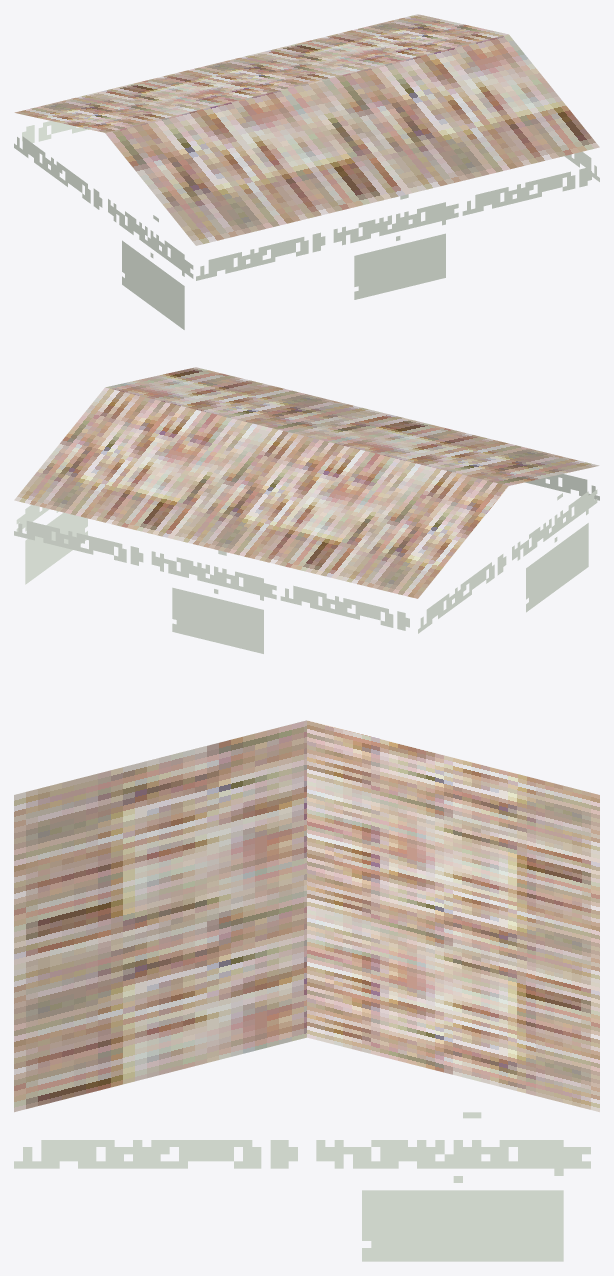
The model's file is uvmd-0060.glb.
3 views of the same model, one above another, from view 1: azimuth 30°, elevation 25°; view 2: azimuth 150°, elevation 25°; view 3: azimuth 270°, elevation 25° (orthographic). The views are drawn at different scales.
Visible parts, largest first — view 1: uvmd-0060; view 2: uvmd-0060; view 3: uvmd-0060.
Boxes of the visible parts, x1,y1,x2,y2 form: uvmd-0060: (14,14,599,329); uvmd-0060: (14,367,599,653); uvmd-0060: (14,720,599,1261).
Bounding box in the file's own units: 246 × 81 × 192.
Materials: 2 (2 with a texture image).
